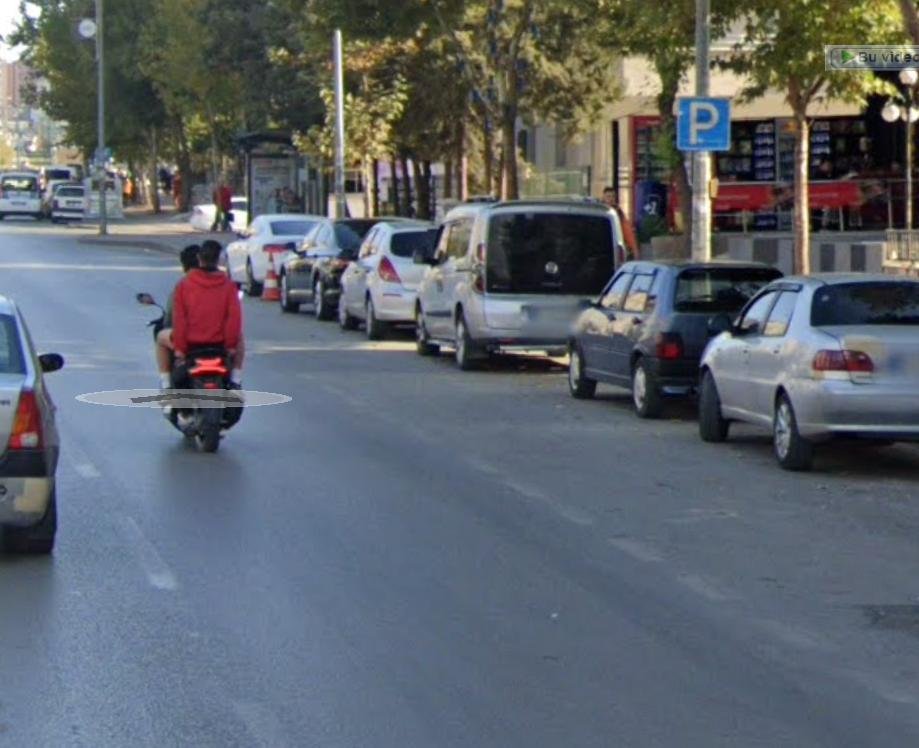park: (679, 99, 728, 151)
